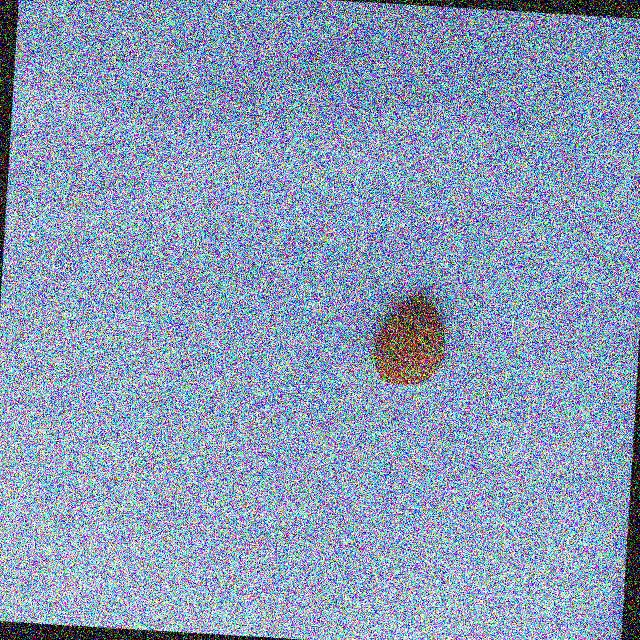grade2: (366, 290, 451, 391)
